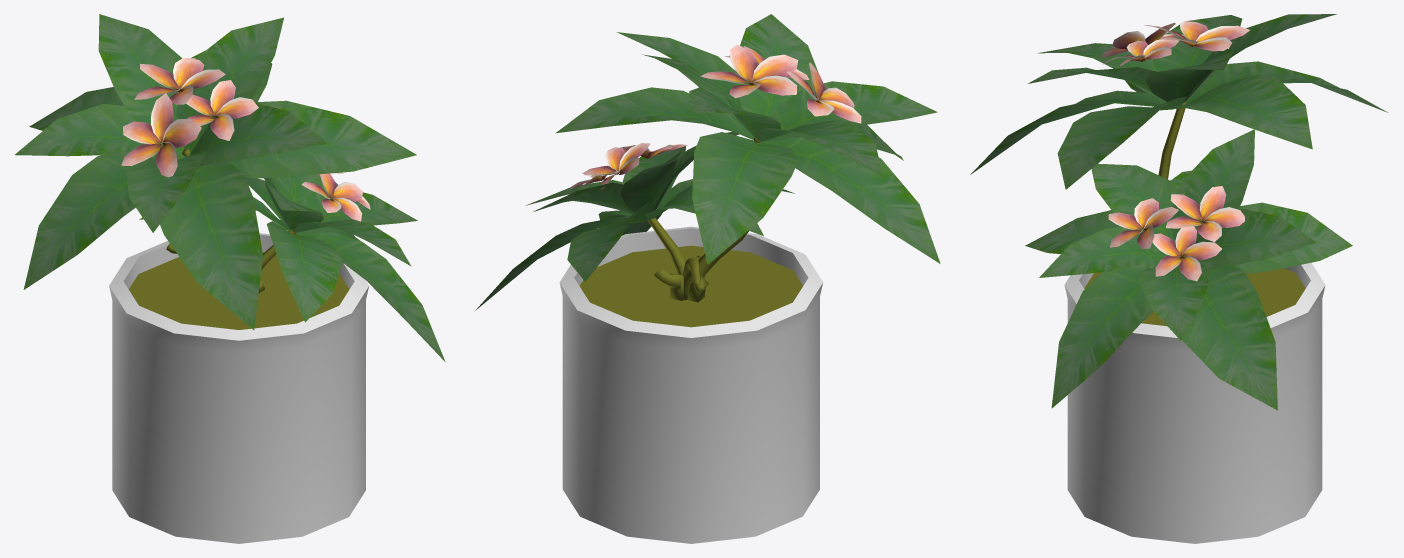
The model's file is planter.glb.
The picture shows the model from 3 angles, left to right: view 1: azimuth 30°, elevation 25°; view 2: azimuth 150°, elevation 25°; view 3: azimuth 270°, elevation 25°; orthographic projection.
Parts seen in each view (by area): view 1: Object_5, Object_4, Object_6, Object_3; view 2: Object_4, Object_5, Object_3, Object_6, Object_2; view 3: Object_5, Object_4, Object_6, Object_3, Object_2.
Part boxes in pixels (x1,y1,x2,y2): Object_5: (15,14,445,361); Object_4: (109,233,368,543); Object_6: (121,58,370,221); Object_3: (129,252,349,329); Object_4: (559,226,822,543); Object_5: (475,14,940,310); Object_3: (579,245,802,327); Object_6: (569,44,861,189); Object_2: (648,137,760,302); Object_5: (970,14,1388,410); Object_4: (1064,262,1325,543); Object_6: (1101,21,1249,281); Object_3: (1084,268,1305,325); Object_2: (1158,101,1185,257).
Size of the model in its own units: 0.7379 by 0.8 by 0.6626.
Materials: 4 (2 with a texture image).
